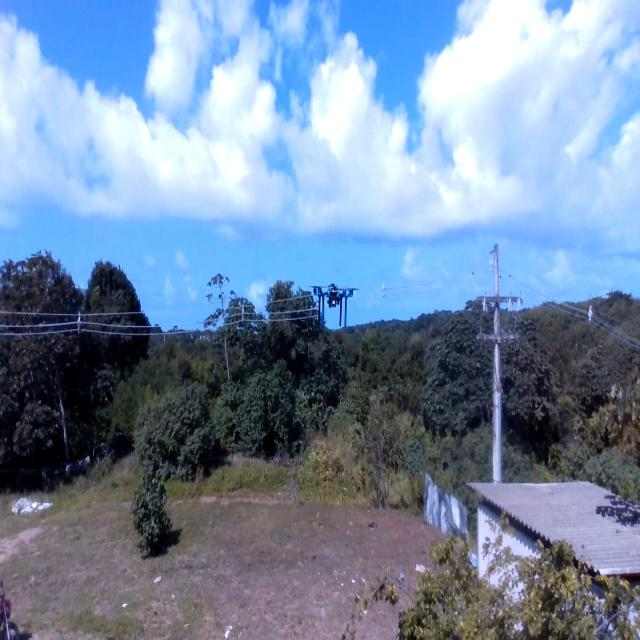-uav-: (304, 268, 363, 337)
